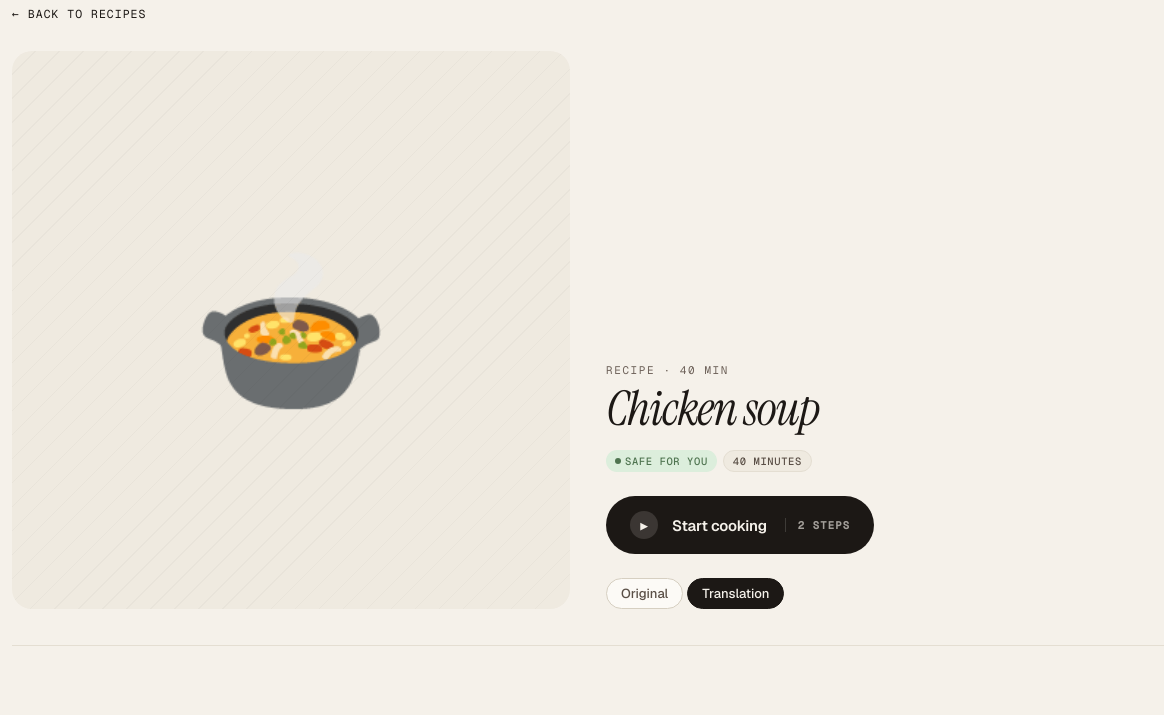
Test case: RecipeDetailView – Bulgarian recipe for an English reader › lets the English reader switch back to the Bulgarian original
This screenshot has width=1164, height=715.
What coordinates should you click on to do the following:
click the button "Original"
I would click on:
 (645, 594)
Its box is [606,578,683,609].
(page scrolled)
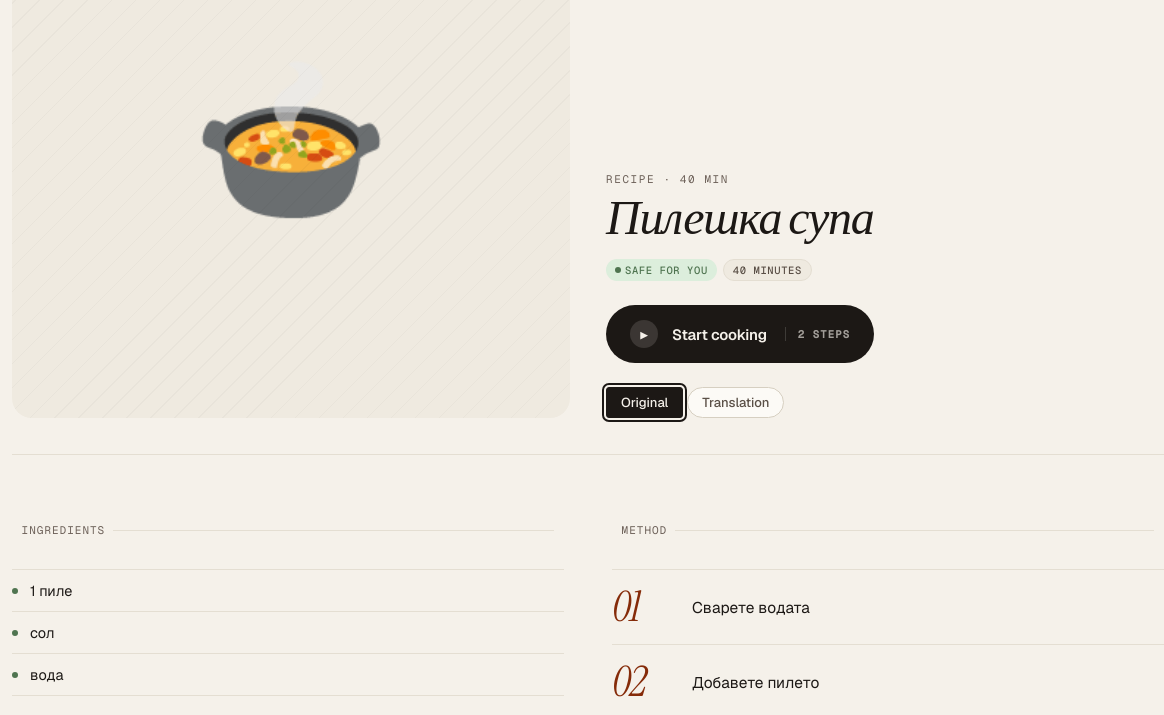
Now the text "1 пиле" is shown, box [30,581,72,600]
